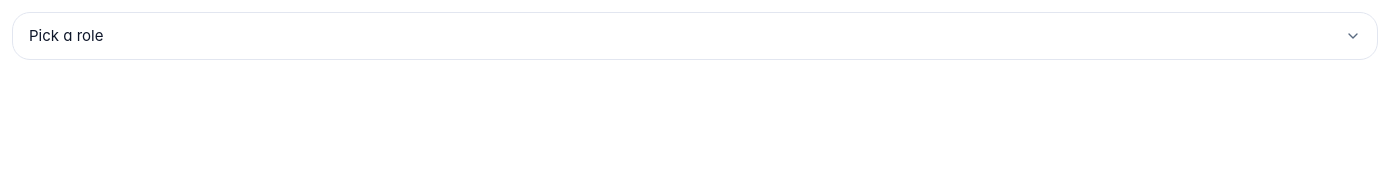
Select › emits the item value and closes after selecting
Click the button "Pick a role". click: (66, 35)
box: [12,12,1378,60]
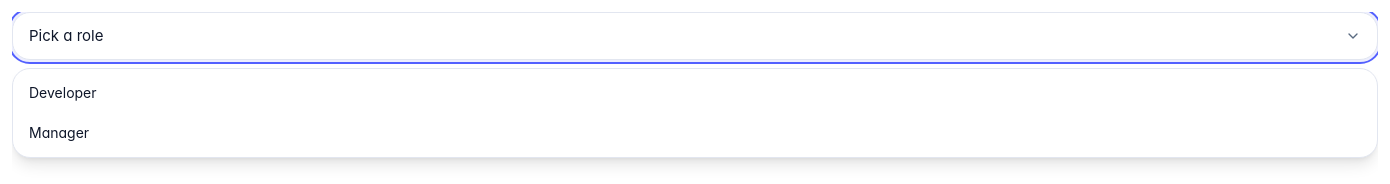
Click the button "Manager". click: (59, 132)
box: [13,113,1377,153]
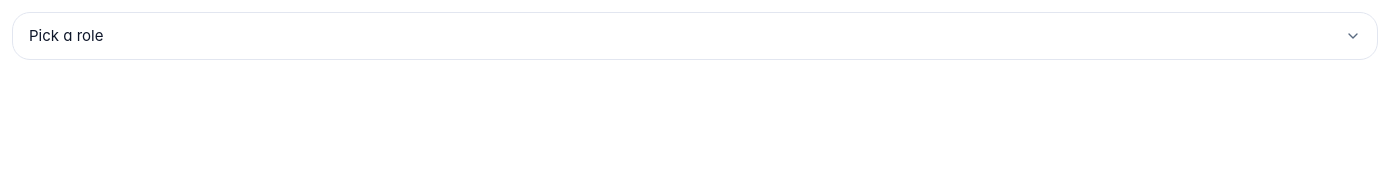
Expected: the button "Developer" is gone
